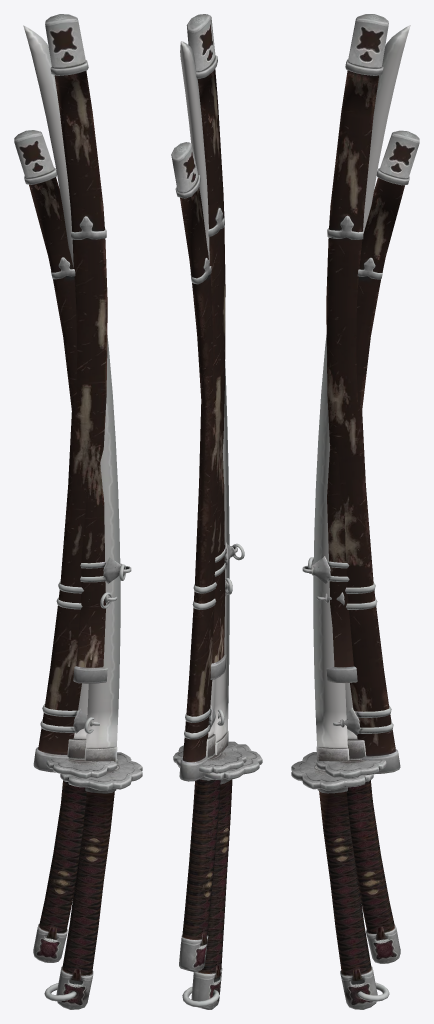
File: katana.glb
The picture shows the model from 3 angles, left to right: view 1: azimuth 90°, elevation 25°; view 2: azimuth 150°, elevation 25°; view 3: azimuth 270°, elevation 25°; orthographic projection.
Parts seen in each view (by area): view 1: saya_Scrab001, katana_Blade001, wakizashi_Scrab005, wakizashi_Blade003; view 2: saya_Scrab001, katana_Blade001, wakizashi_Scrab005, wakizashi_Blade003; view 3: saya_Scrab001, katana_Blade001, wakizashi_Scrab005, wakizashi_Blade003.
Boxes of the visible parts, x1=… form: saya_Scrab001: x1=33, y1=14, x2=117, y2=772; katana_Blade001: x1=23, y1=25, x2=142, y2=1009; wakizashi_Scrab005: x1=14, y1=130, x2=131, y2=683; wakizashi_Blade003: x1=33, y1=683, x2=117, y2=962; saya_Scrab001: x1=179, y1=14, x2=232, y2=781; katana_Blade001: x1=178, y1=41, x2=262, y2=1009; wakizashi_Scrab005: x1=171, y1=142, x2=244, y2=679; wakizashi_Blade003: x1=173, y1=679, x2=246, y2=971; saya_Scrab001: x1=316, y1=14, x2=400, y2=774; katana_Blade001: x1=291, y1=25, x2=410, y2=1009; wakizashi_Scrab005: x1=302, y1=130, x2=419, y2=683; wakizashi_Blade003: x1=316, y1=683, x2=400, y2=963.
Size of the model in its own units: 0.0635 by 0.8346 by 0.0983.
1 material, 1 textured.
